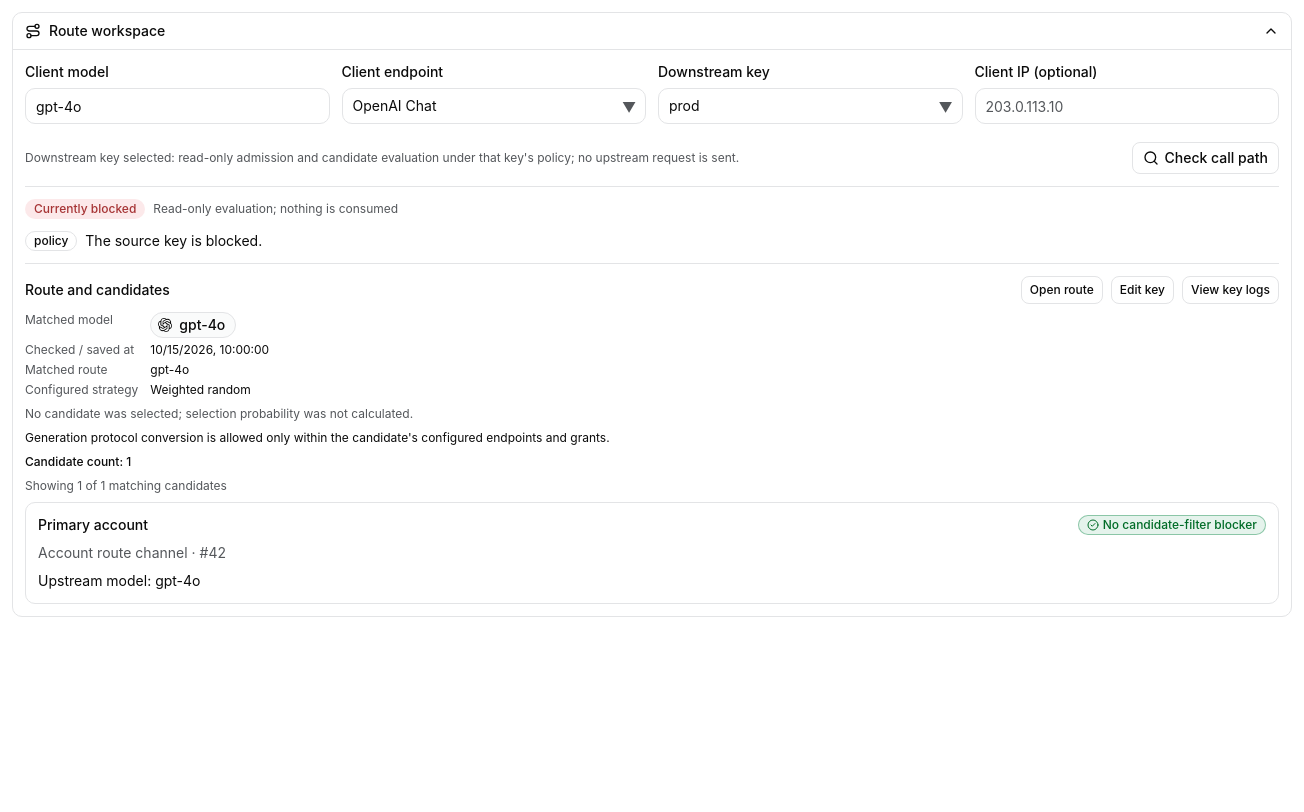
Test: RouteWorkspace › rechecks only the selected key context and removes failed admission as well as candidates
Expected: the text "Currently blocked" is shown, [25, 199, 145, 219]
Click the button "Check call path".
click(1205, 158)  # box [1132, 142, 1279, 174]
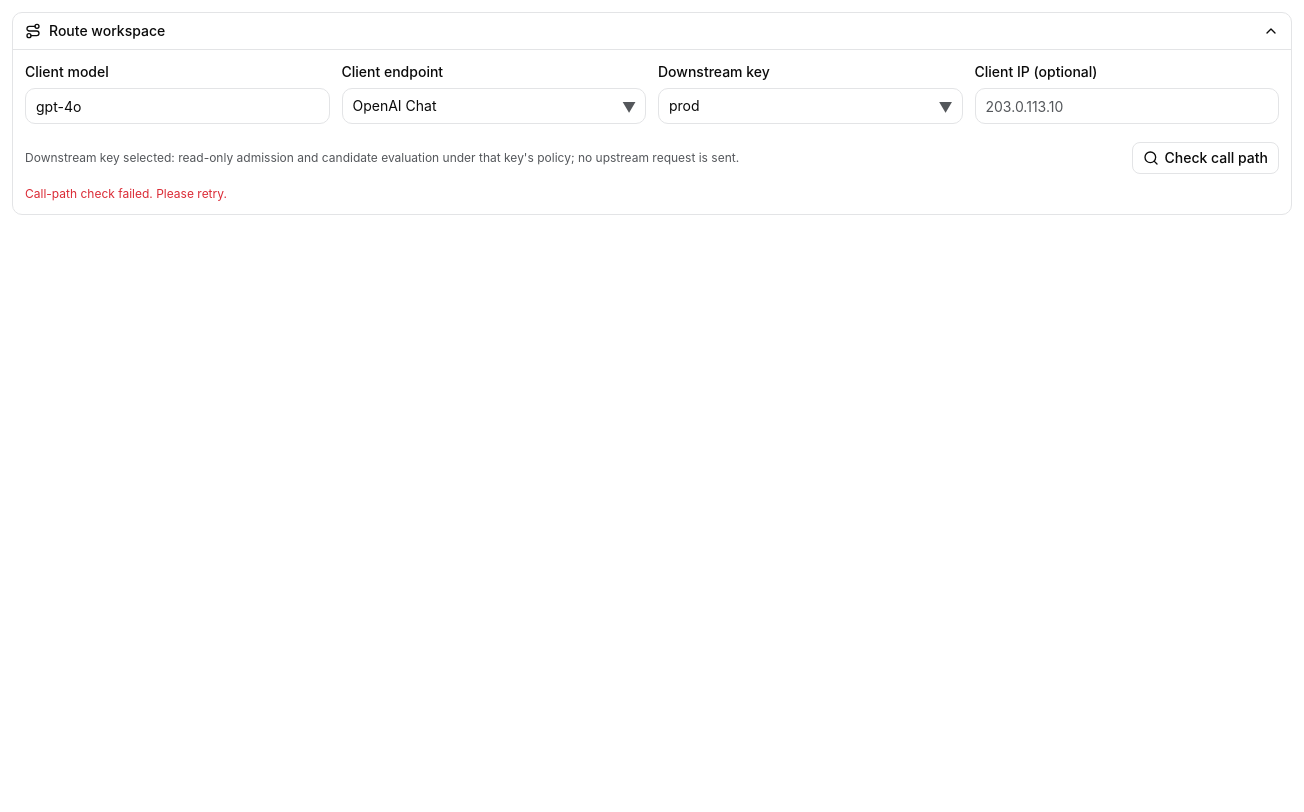
Now the message "Call-path check failed. Please retry." is shown, box [25, 186, 227, 201]
Now the text "Currently blocked" is gone
Now the text "Primary account" is gone
